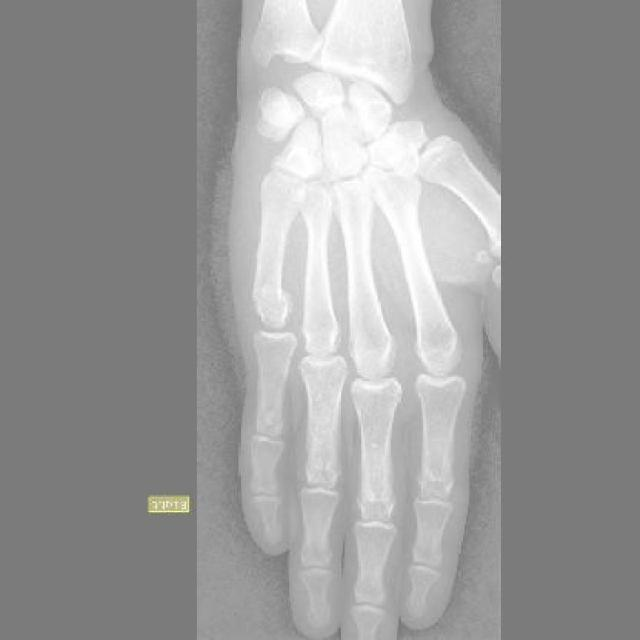Fracture: (248, 272, 291, 314)
